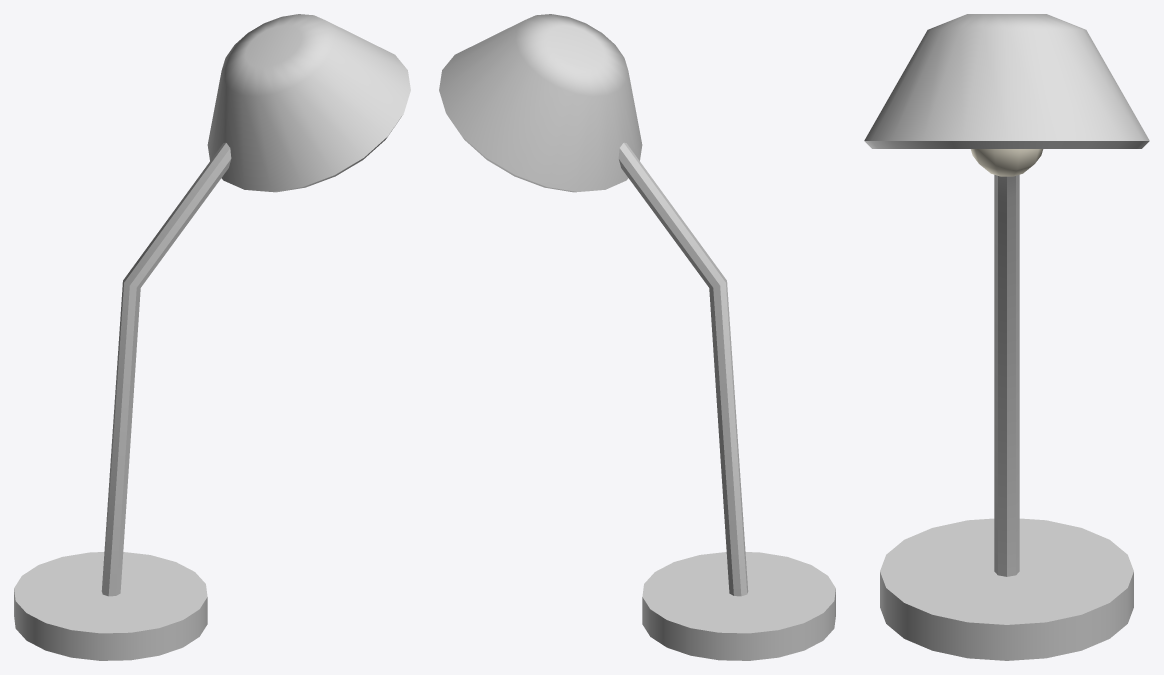
Rendered from SM_DeskLamp.fbx.
The picture shows the model from 3 angles, left to right: view 1: azimuth 30°, elevation 25°; view 2: azimuth 150°, elevation 25°; view 3: azimuth 270°, elevation 25°; orthographic projection. The views are drawn at different scales.
Visible parts, largest first — view 1: SM_DeskLamp_1; view 2: SM_DeskLamp_1; view 3: SM_DeskLamp_1.
Boxes of the visible parts, box(x1,y1,x2,y2) form: SM_DeskLamp_1: box(14, 14, 410, 660); SM_DeskLamp_1: box(439, 14, 835, 660); SM_DeskLamp_1: box(864, 14, 1149, 660).
Bounding box in the file's own units: 35 × 49.64 × 18.
